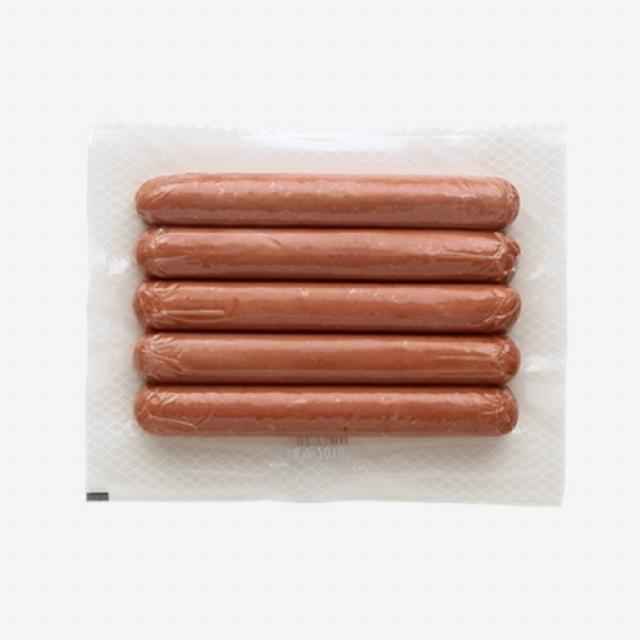shrimp: (119, 159, 538, 461)
